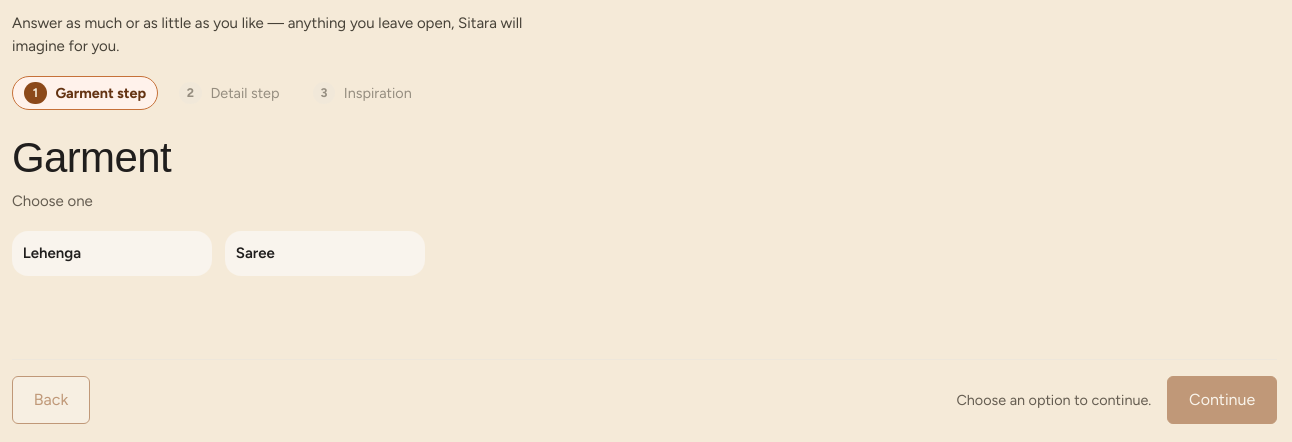
Test: QuestionnaireWizard › creates the design on the first successful save (partial autosave)
This screenshot has width=1292, height=442.
Click the radio button labelled "Lehenga" at (112, 254), box x1=12 y1=231 x2=212 y2=276
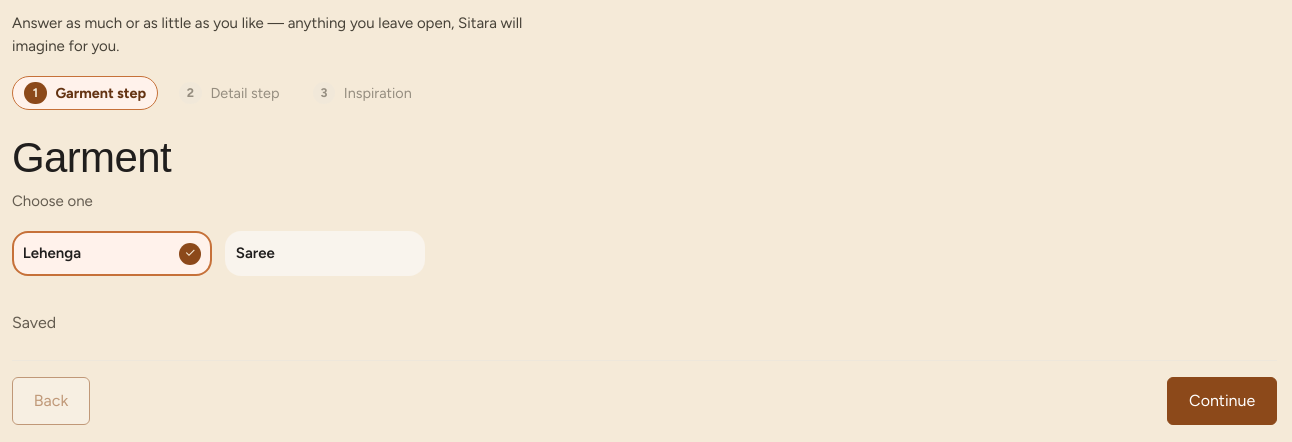
Check: the text "Saved" is shown, box x1=12 y1=313 x2=56 y2=332
